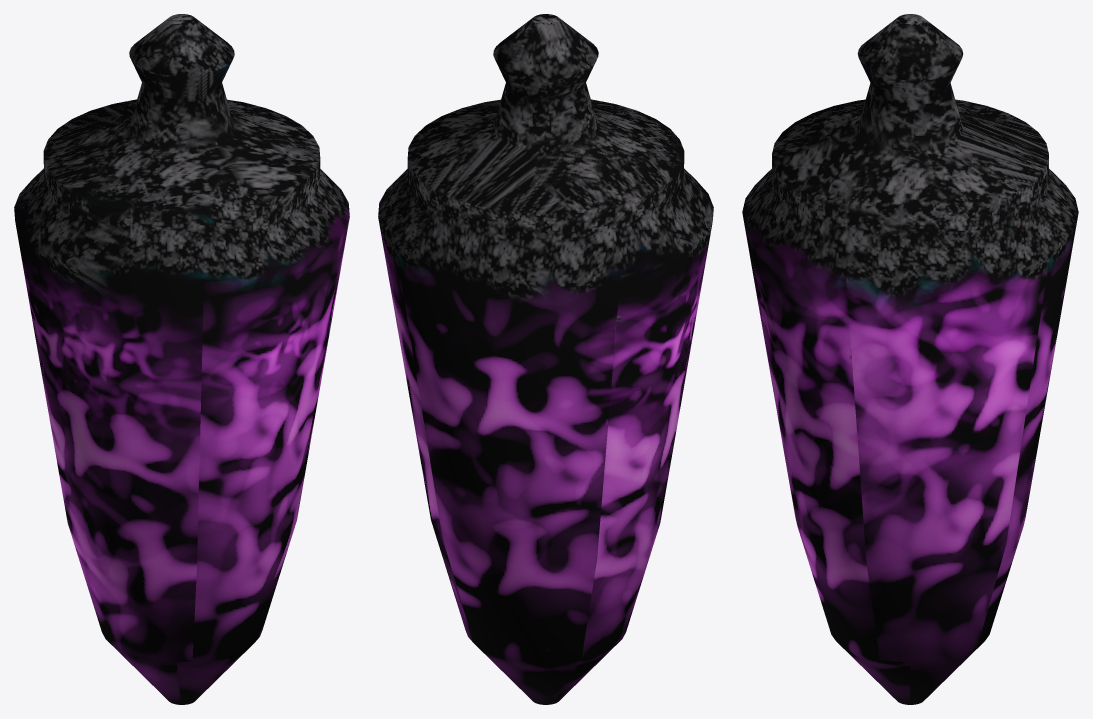
Rendered from Currency3.glb.
The picture shows the model from 3 angles, left to right: view 1: azimuth 30°, elevation 25°; view 2: azimuth 150°, elevation 25°; view 3: azimuth 270°, elevation 25°; orthographic projection.
Visible parts, largest first — view 1: Currency3; view 2: Currency3; view 3: Currency3.
Part boxes in pixels (x1=…): Currency3: x1=14, y1=14, x2=349, y2=704; Currency3: x1=378, y1=14, x2=713, y2=704; Currency3: x1=742, y1=14, x2=1078, y2=704.
Bounding box in the file's own units: 0.1598 × 0.356 × 0.1598.
Materials: 1 (1 with a texture image).
